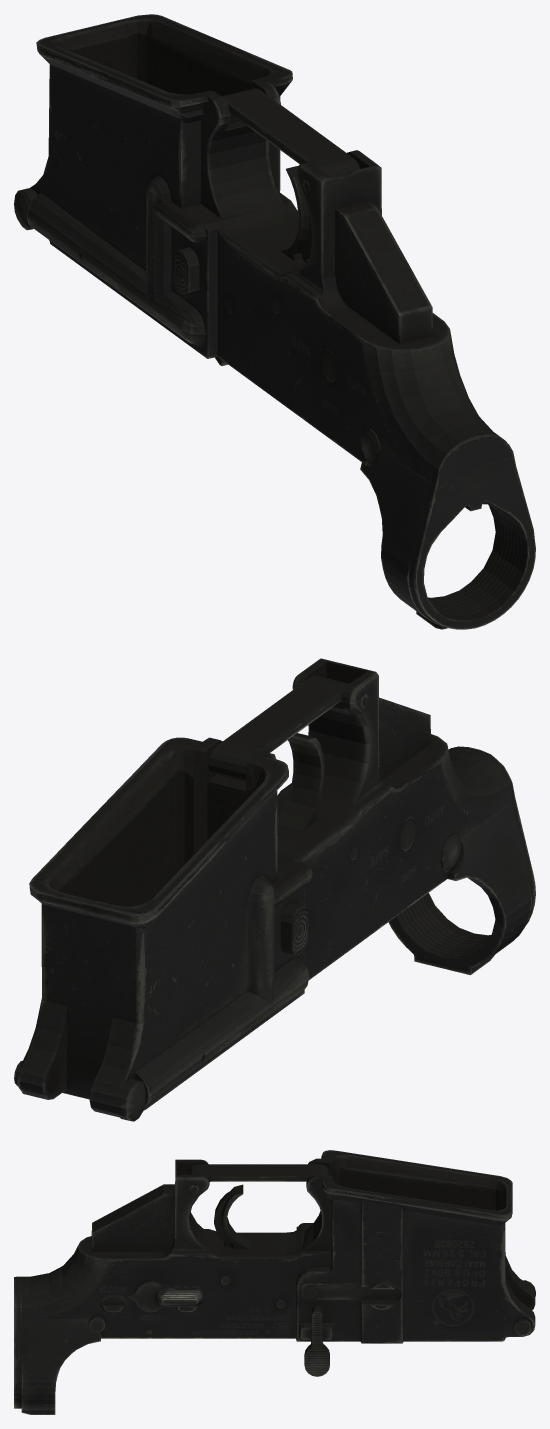
3 views of the same model, one above another, from view 1: azimuth 30°, elevation 25°; view 2: azimuth 150°, elevation 25°; view 3: azimuth 270°, elevation 25° (orthographic). The views are drawn at different scales.
Visible parts, largest first — view 1: TW_5447a9cd4bdc2dbd208b4567_PZ_Import; view 2: TW_5447a9cd4bdc2dbd208b4567_PZ_Import; view 3: TW_5447a9cd4bdc2dbd208b4567_PZ_Import.
Boxes of the visible parts, left/top/right/bottom form: TW_5447a9cd4bdc2dbd208b4567_PZ_Import: left=14, top=14, right=535, bottom=629; TW_5447a9cd4bdc2dbd208b4567_PZ_Import: left=14, top=658, right=535, bottom=1121; TW_5447a9cd4bdc2dbd208b4567_PZ_Import: left=14, top=1150, right=535, bottom=1414.
Bounding box in the file's own units: 0.0216 × 0.1145 × 0.0576.
1 material, 1 textured.
